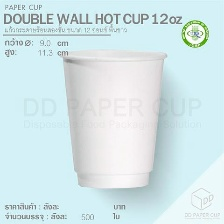paper_cup: (54, 43, 172, 193)
